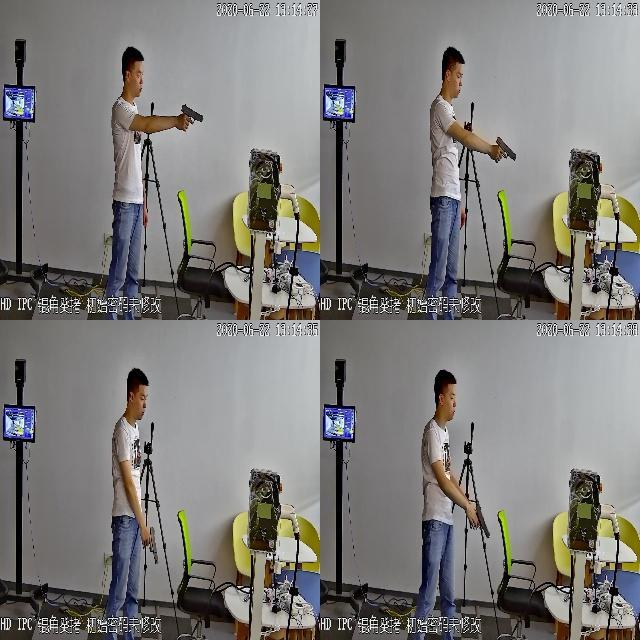gun-knife-thesis - v11 Yolov5 augmented: (467, 500, 490, 539), (491, 134, 516, 166), (176, 100, 202, 130), (139, 524, 158, 564)
